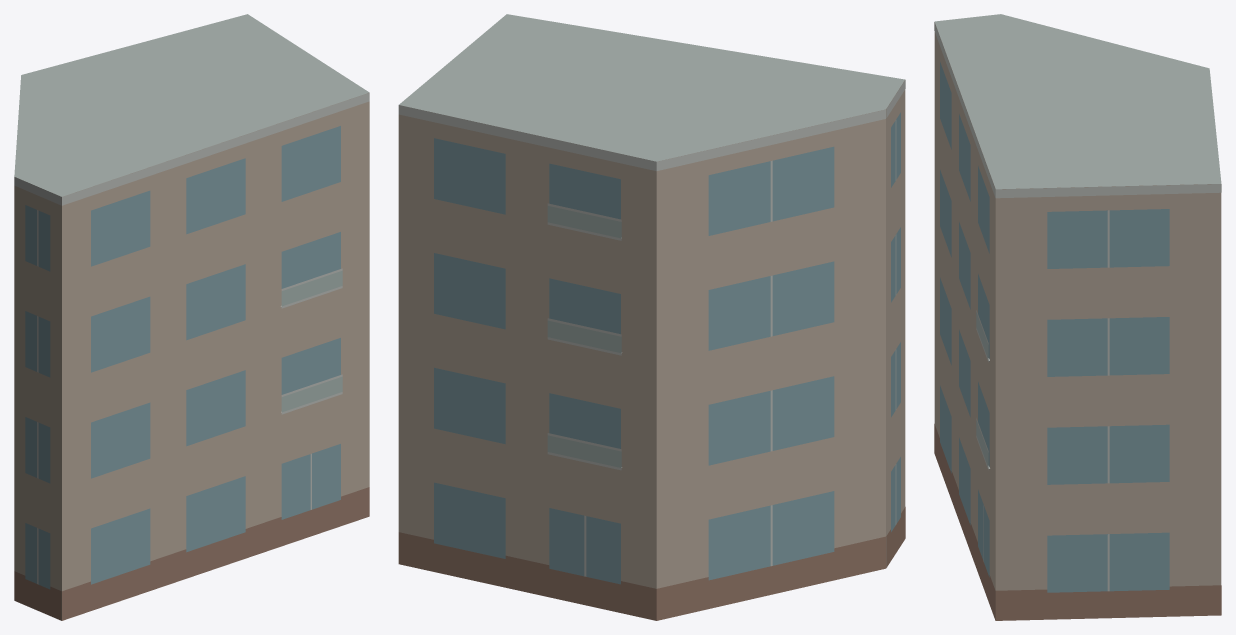
Rendered from survey-upis-32457790.glb.
3 renders of one model, left to right at view 1: azimuth 30°, elevation 25°; view 2: azimuth 150°, elevation 25°; view 3: azimuth 270°, elevation 25°, orthographic. The views are drawn at different scales.
Parts seen in each view (by area): view 1: survey-upis-32457790.tmp; view 2: survey-upis-32457790.tmp; view 3: survey-upis-32457790.tmp.
Boxes of the visible parts, <box> form: survey-upis-32457790.tmp: <box>14,14,369,620</box>; survey-upis-32457790.tmp: <box>398,14,905,620</box>; survey-upis-32457790.tmp: <box>934,14,1221,620</box>.
Bounding box in the file's own units: 10.2 × 11.7 × 7.06.
